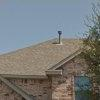Chimney: (54, 26, 70, 52)
